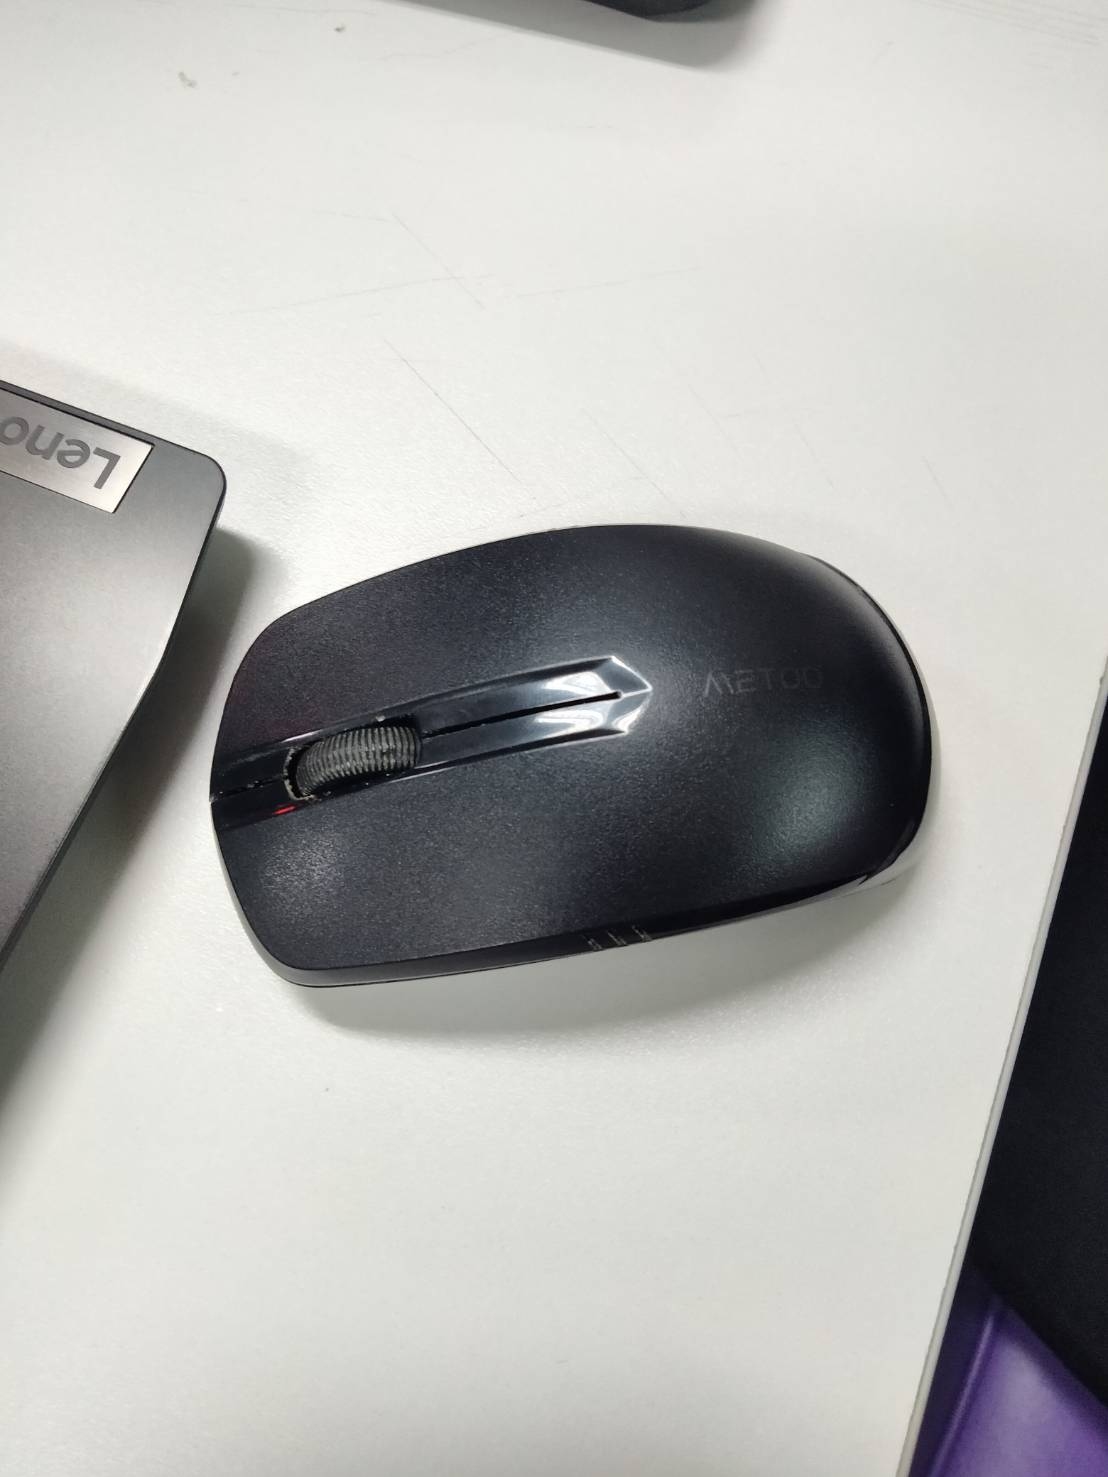mouse: (172, 506, 973, 995)
